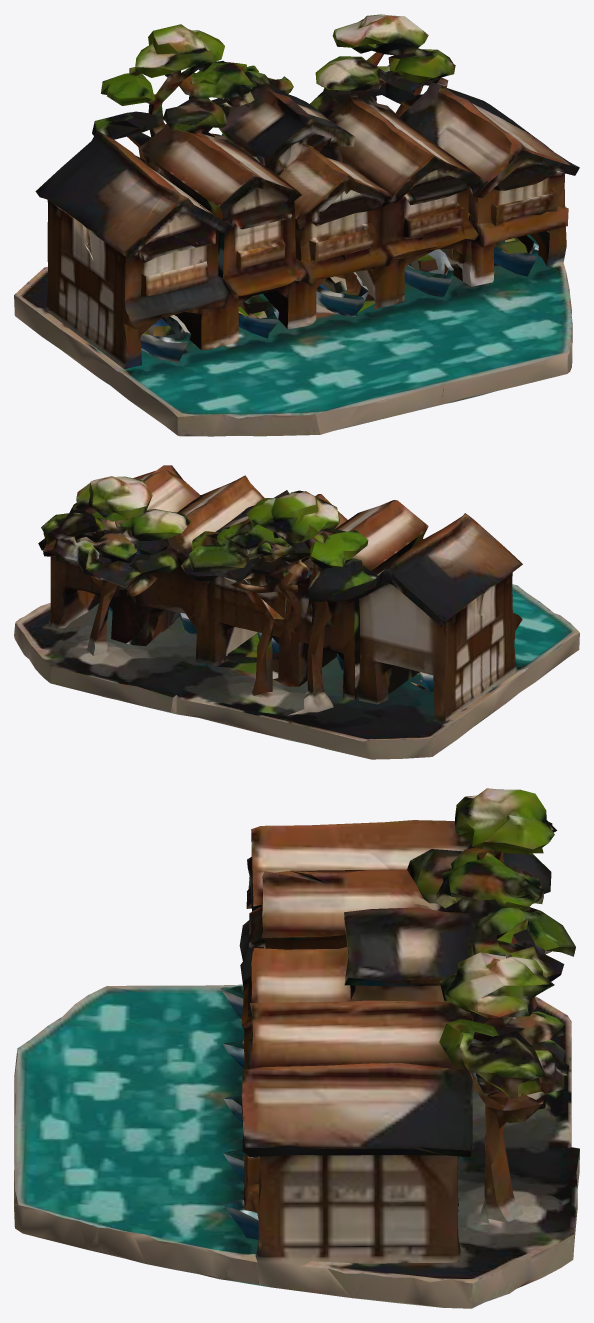
File: ine-funaya.glb
3 views of the same model, one above another, from view 1: azimuth 30°, elevation 25°; view 2: azimuth 150°, elevation 25°; view 3: azimuth 270°, elevation 25° (orthographic). The views are drawn at different scales.
Visible parts, largest first — view 1: logan-textured.obj; view 2: logan-textured.obj; view 3: logan-textured.obj.
Part boxes in pixels (bbox=[...]): logan-textured.obj: bbox=[14, 14, 579, 436]; logan-textured.obj: bbox=[14, 465, 579, 759]; logan-textured.obj: bbox=[14, 788, 579, 1308].
Bounding box in the file's own units: 1 × 0.4949 × 0.8035.
Materials: 1 (1 with a texture image).
